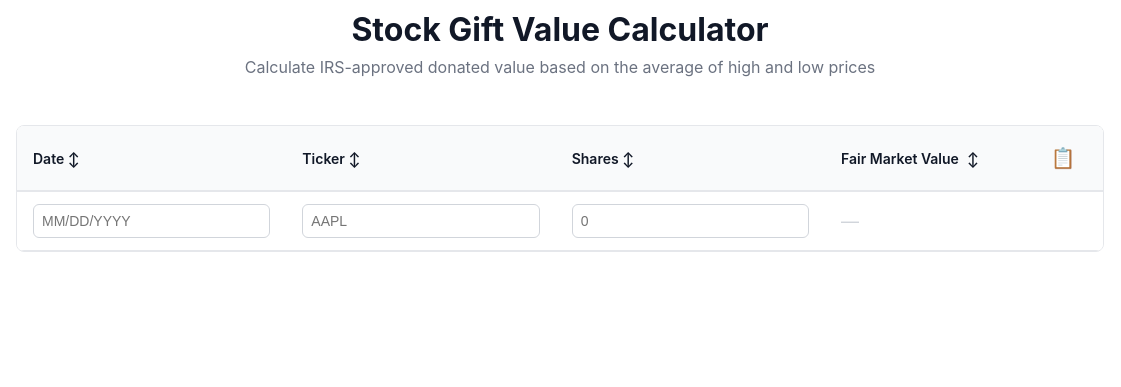
Test case: StockGiftCalculator - Column Sorting › should sort by date ascending when clicking date header
This screenshot has width=1121, height=387.
In the field named "date": (152, 221) [33,204,270,238], type "03/15/2024"
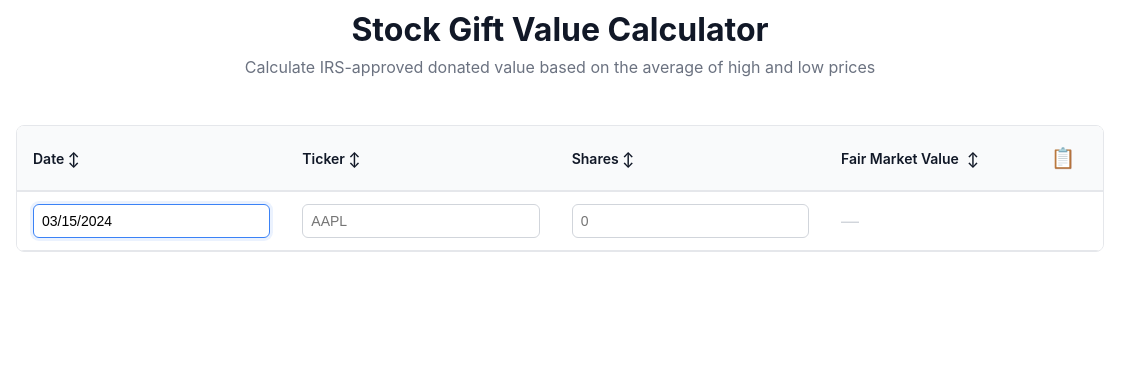
Press Tab
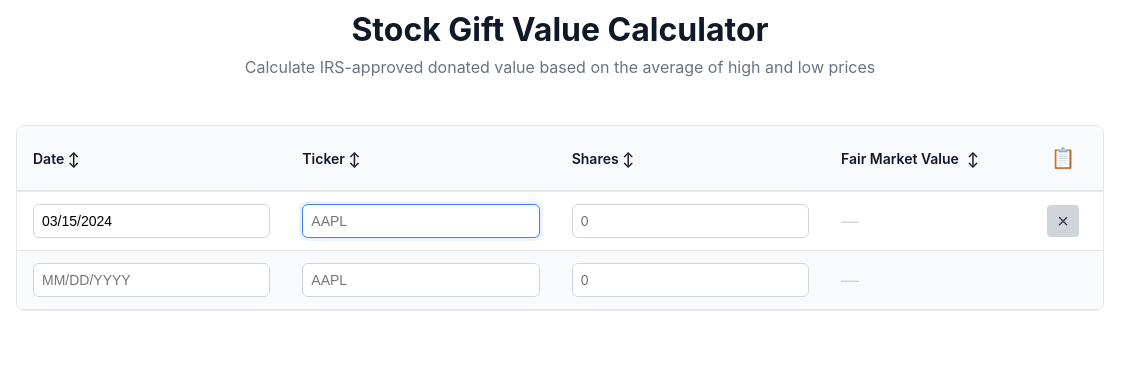
In the field named "date": (152, 280) [33,263,270,297], type "01/10/2024"
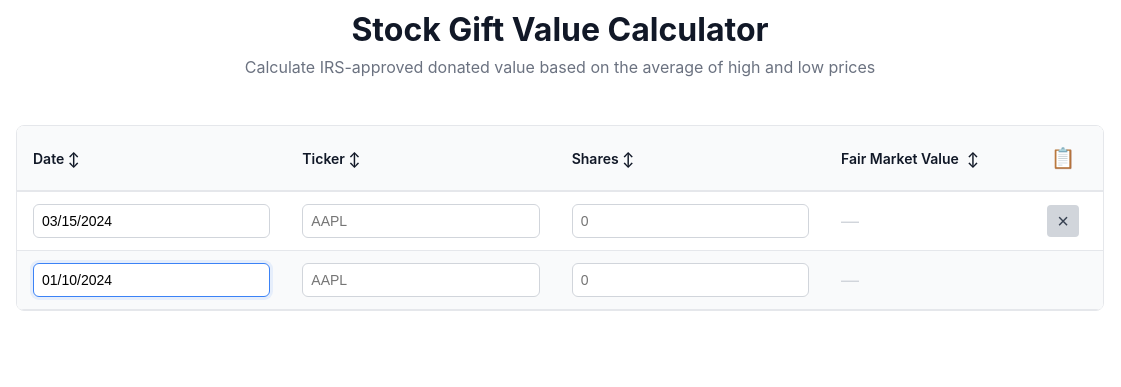
Press Tab
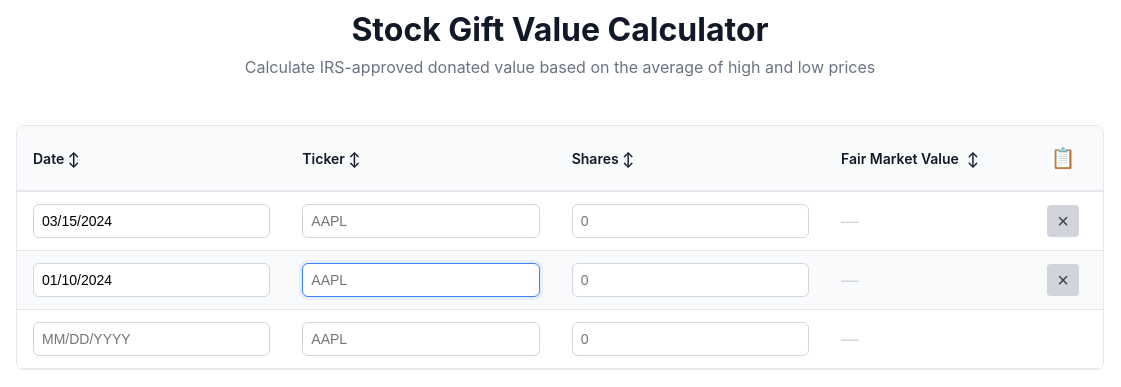
expect the number of fields named "date" is 3: met, box [33,204,270,238]; [33,263,270,297]; [33,322,270,356]
Click the button "Date ↕": (152, 158) [33,150,270,166]
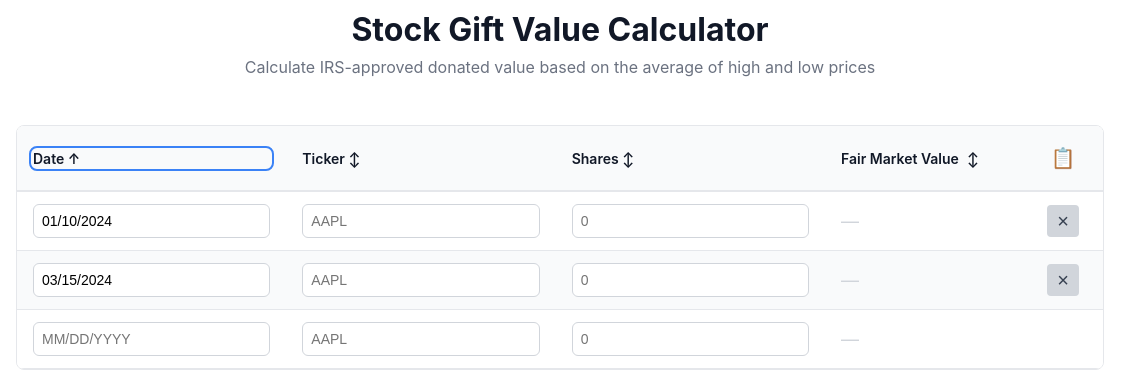
expect the field named "date" is empty: met, box [33,322,270,356]
expect the button "Date ↑" is shown: met, box [33,150,270,166]
